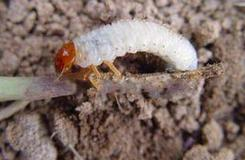grub: (50, 16, 200, 79)
